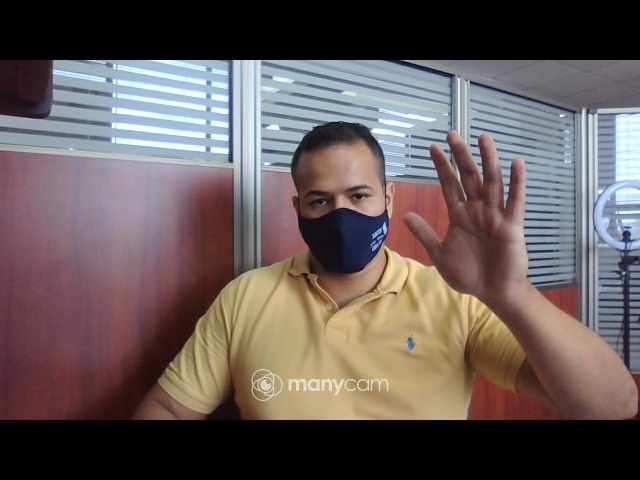Hello: (402, 130, 533, 309)
